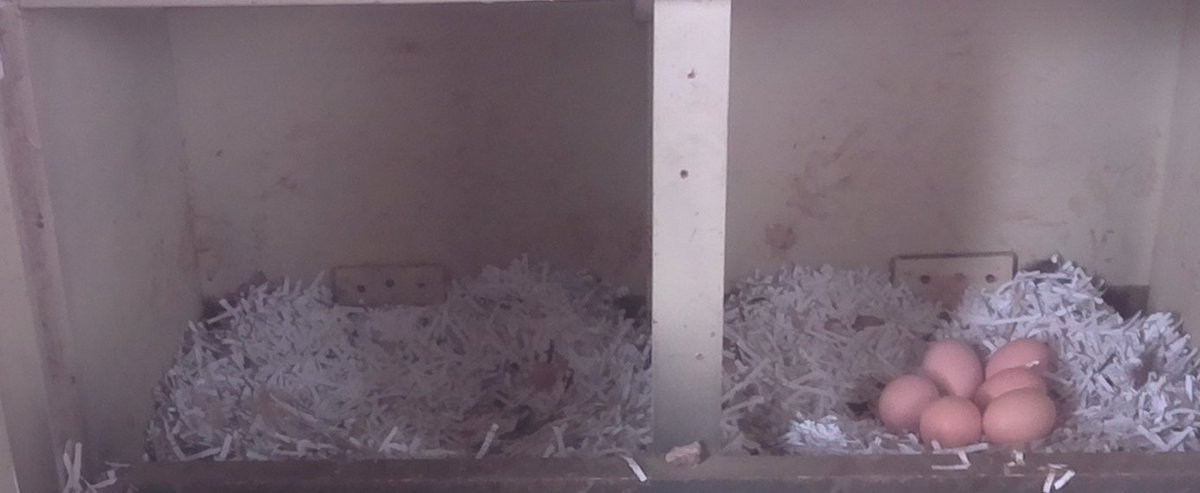egg: (983, 385, 1063, 456), (917, 335, 985, 403), (918, 389, 987, 452), (878, 373, 938, 437), (973, 363, 1056, 406), (980, 337, 1061, 381)
